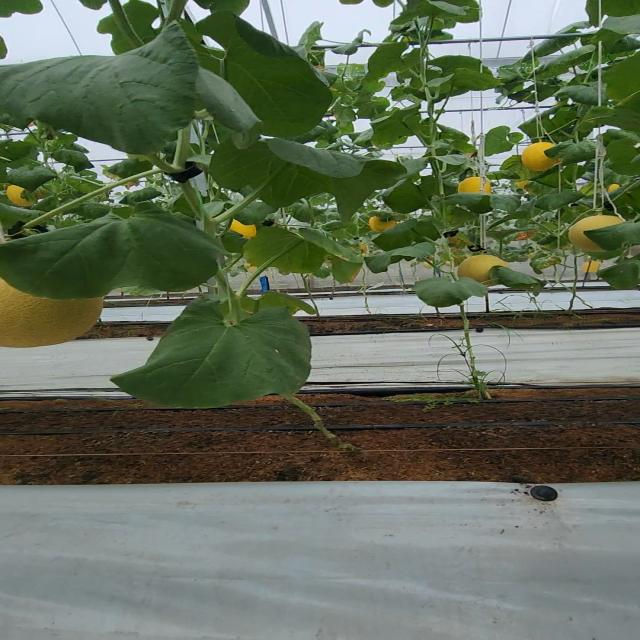Front-melon: (0, 293, 107, 348)
Rear-melon: (458, 255, 497, 281)
